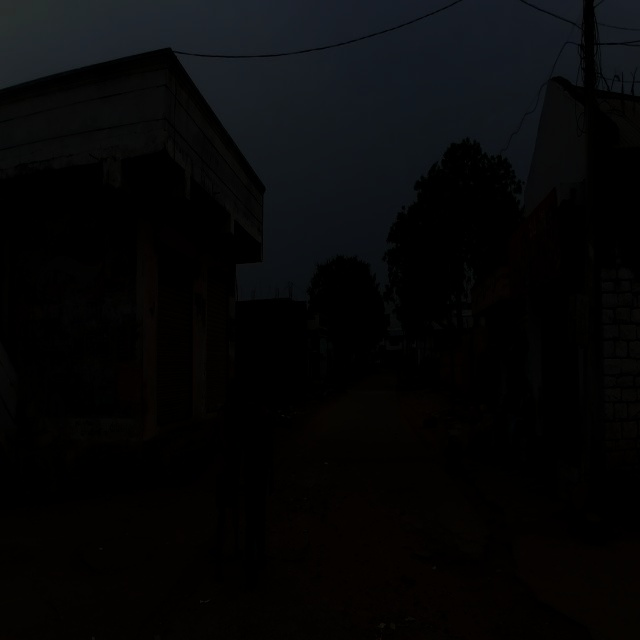Pothole: (437, 490, 640, 640), (290, 449, 430, 640), (74, 502, 172, 570), (30, 575, 77, 640)
